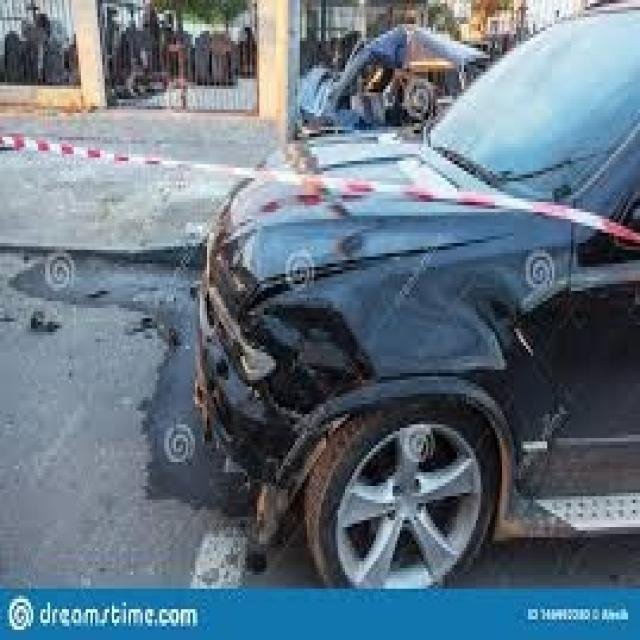accident: (140, 138, 544, 577)
